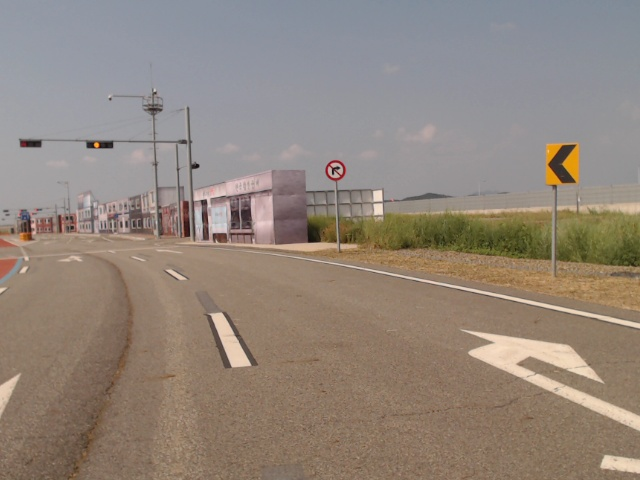orange_4: (84, 138, 114, 150)
